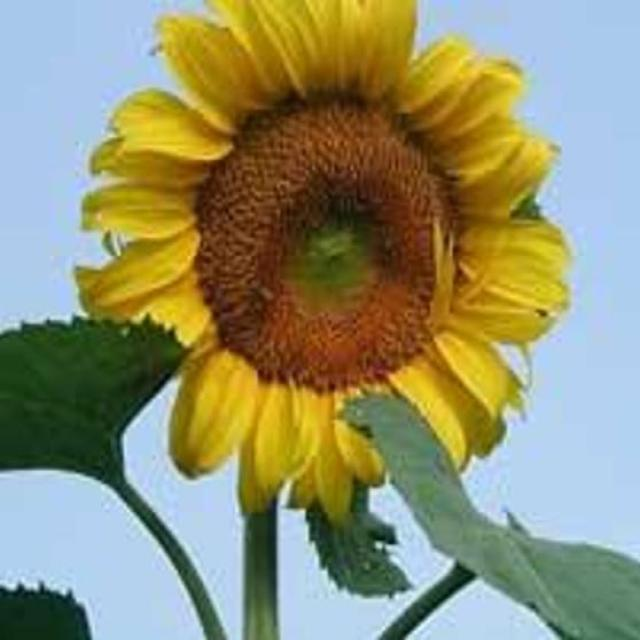sunflower: (65, 1, 593, 525)
